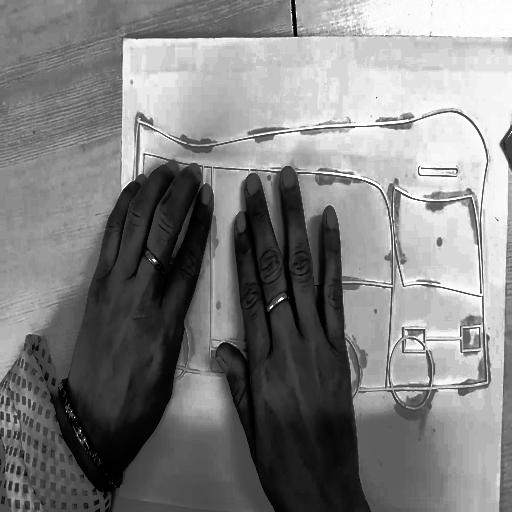bottom_left: (116, 491, 125, 502)
bus: (124, 95, 497, 419)
top_left: (119, 34, 127, 44)
